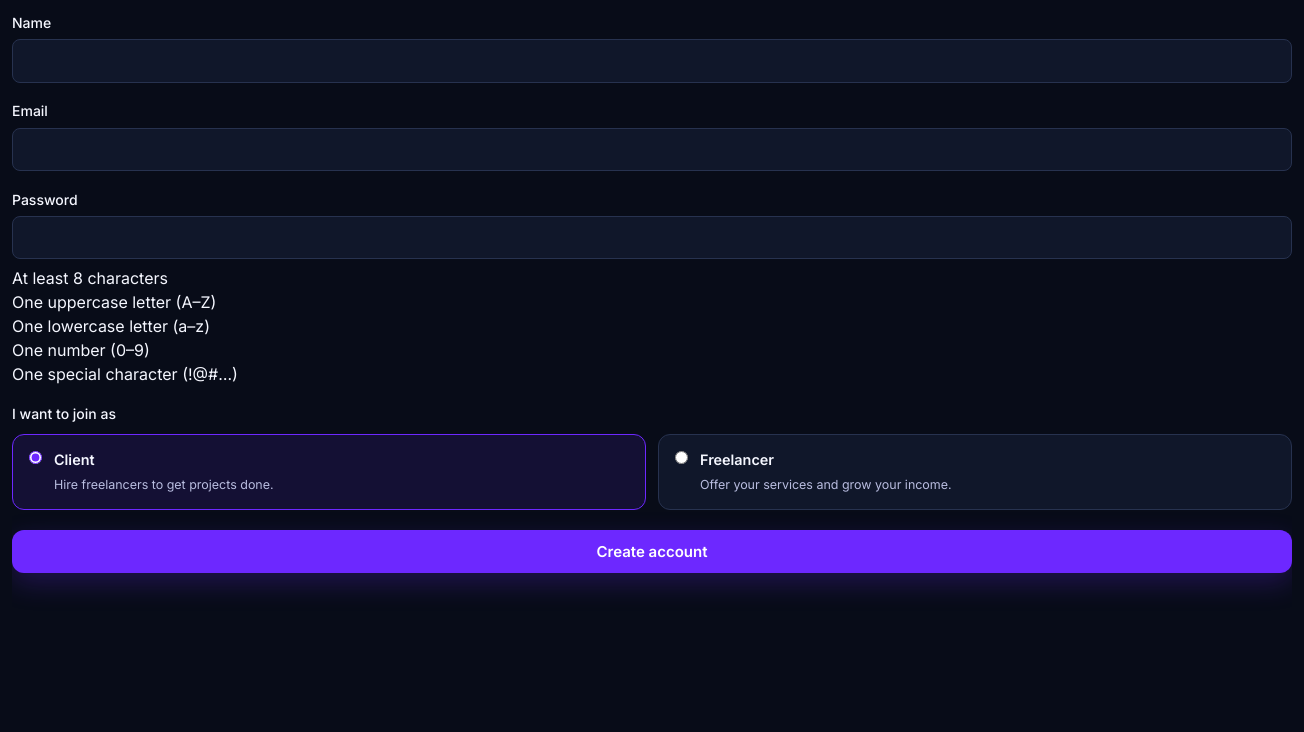
Test case: RegisterForm › shows an error when password is too weak
Type "Test User" into the field labelled "Name" at (652, 61), box [12,39,1292,83]
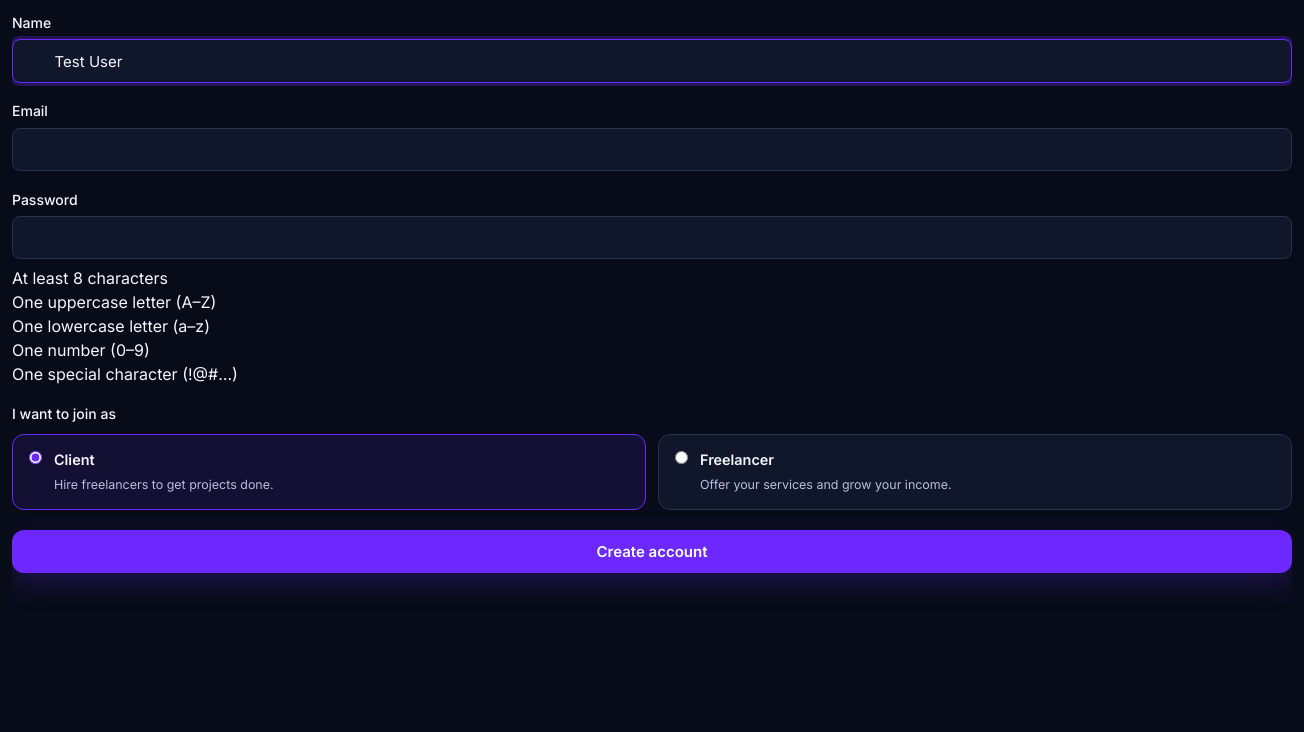
Type "test@example.com" into the field labelled "Email" at (652, 150), box [12,128,1292,171]
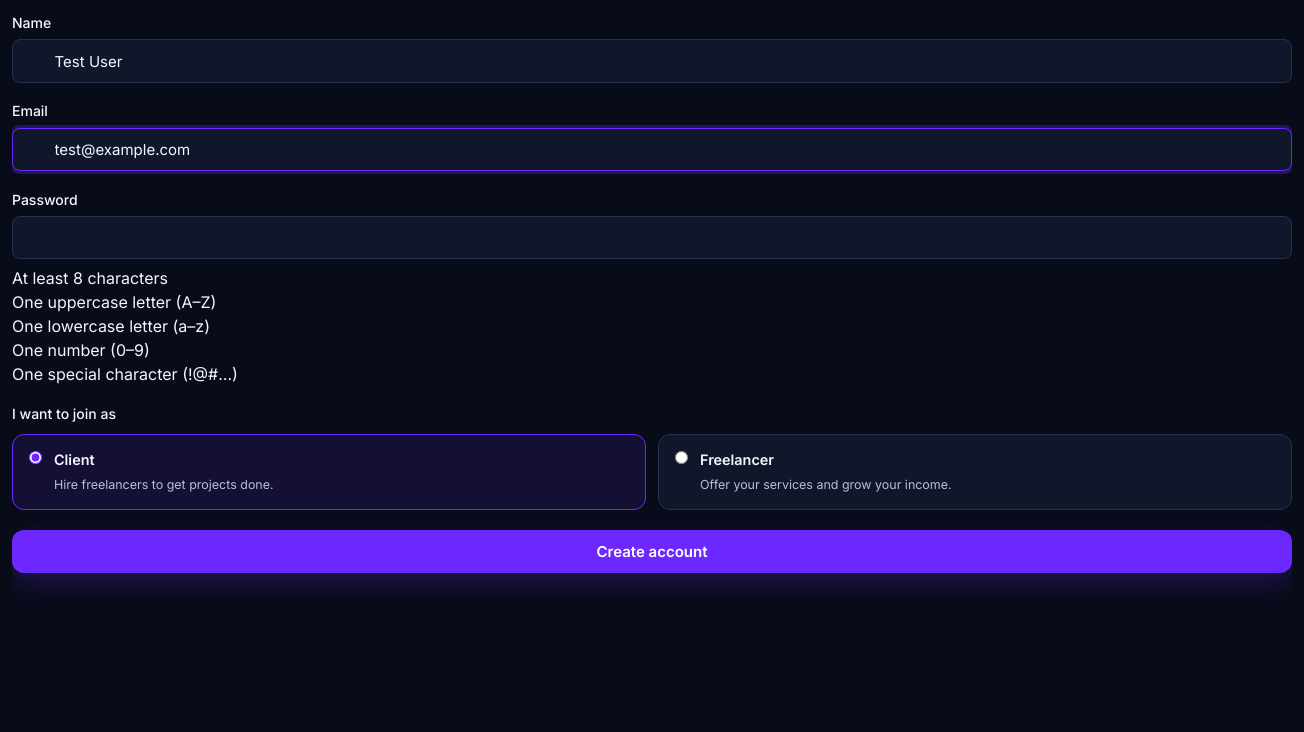
Type "weak" into the password field with id "rf-password" at (652, 238), box [12,216,1292,260]
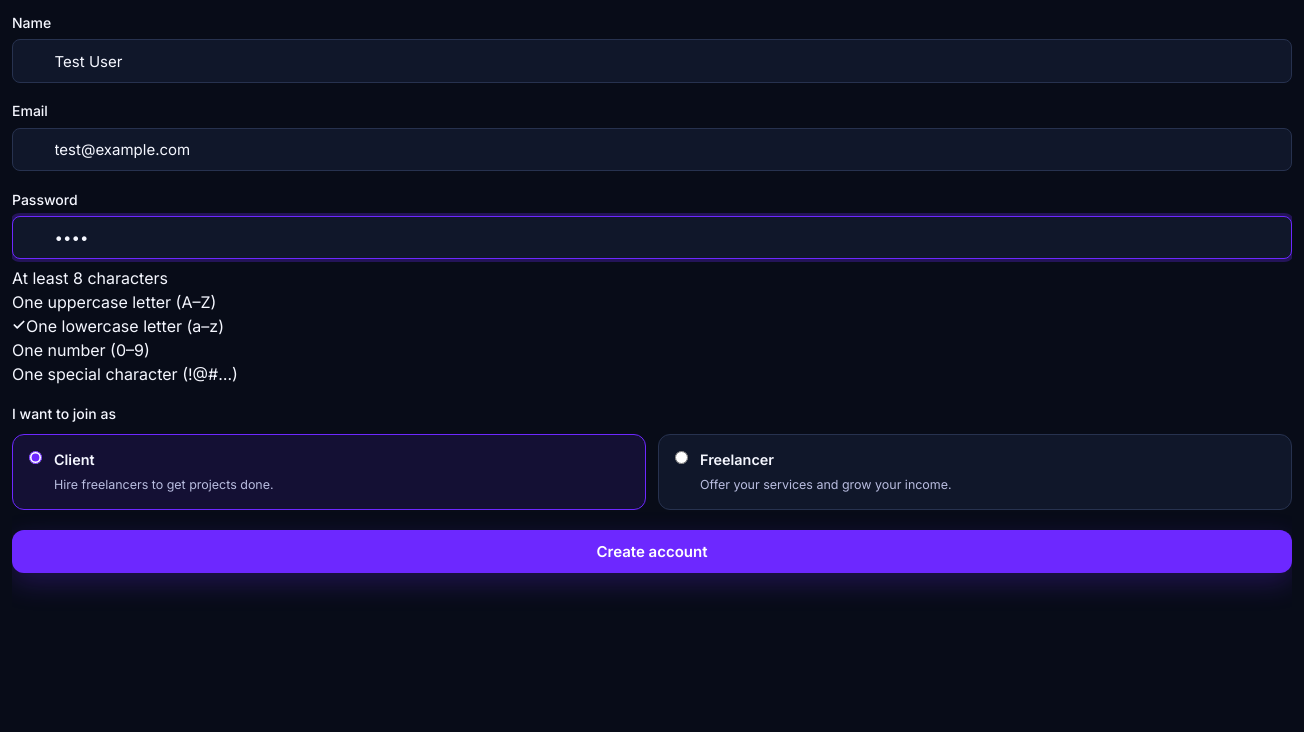
Click the radio button labelled "Client Hire freelancers to get projects done." at (36, 458), box [29,452,42,464]
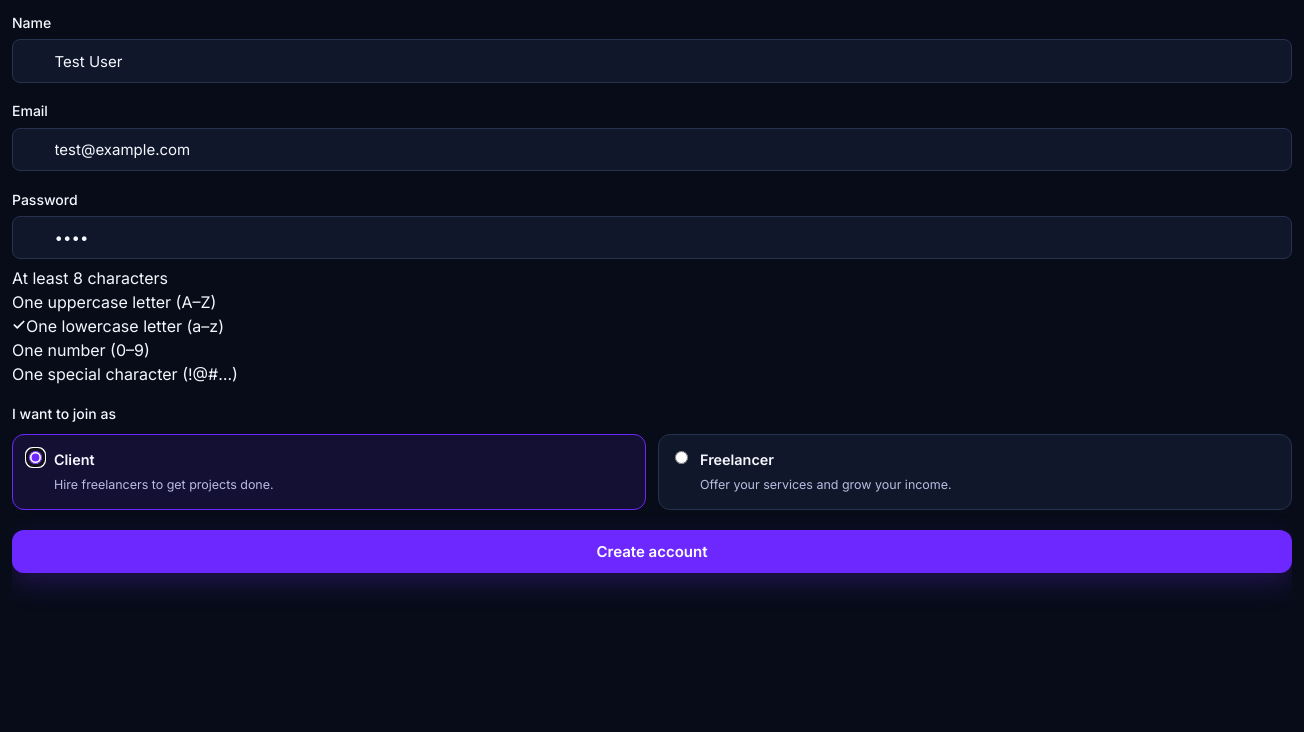
Click the button "Create account" at (652, 552), box [12,530,1292,574]
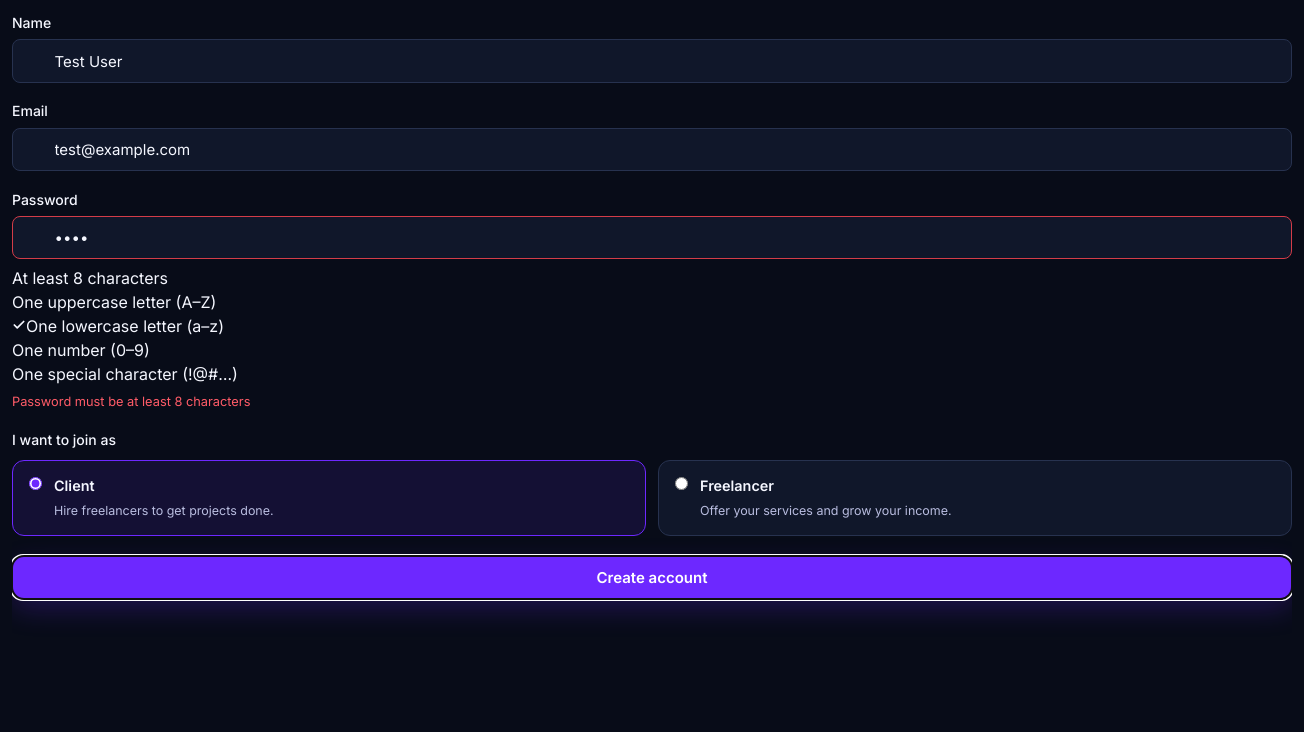
Now the message "Password must be at least 8 characters" is shown, box [12,394,250,409]
